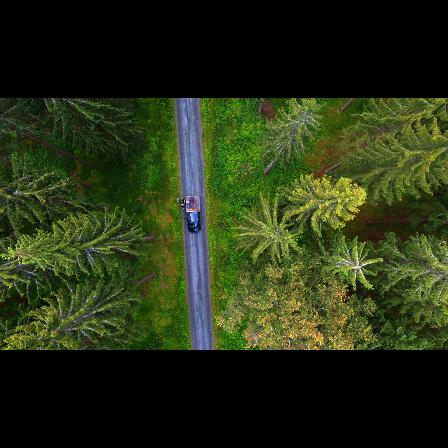Sick: (334, 246, 382, 284)
